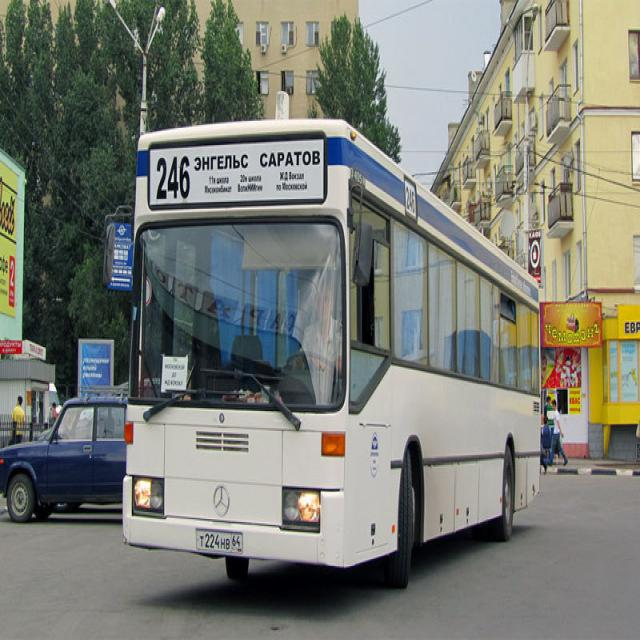number-of-bus: (153, 152, 194, 204)
